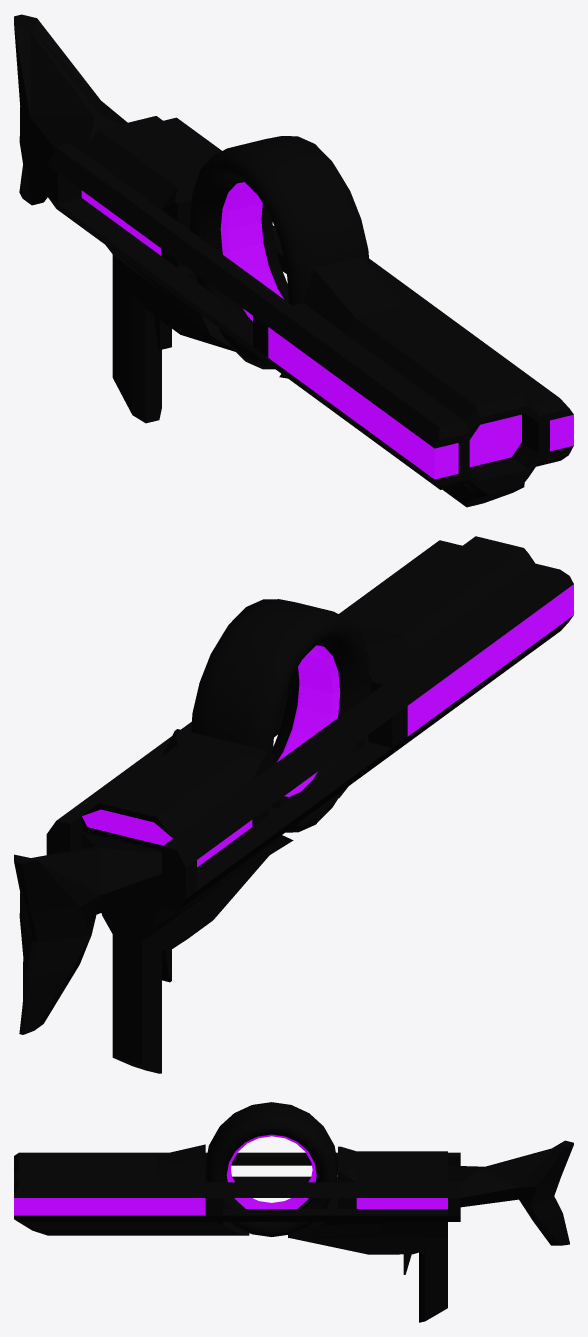
The model's file is Gun001.fbx.
3 renders of one model, top to bottom at view 1: azimuth 30°, elevation 25°; view 2: azimuth 150°, elevation 25°; view 3: azimuth 270°, elevation 25°, orthographic. The views are drawn at different scales.
Visible parts, largest first — view 1: Gun, Chamber, Glow; view 2: Gun, Chamber, Glow; view 3: Gun, Chamber, Glow.
Boxes of the visible parts, x1=… form: Gun: x1=14, y1=14, x2=573, y2=507; Chamber: x1=189, y1=136, x2=369, y2=369; Glow: x1=81, y1=190, x2=573, y2=479; Gun: x1=14, y1=536, x2=573, y2=1073; Chamber: x1=191, y1=599, x2=371, y2=832; Glow: x1=82, y1=584, x2=573, y2=867; Gun: x1=14, y1=1140, x2=573, y2=1322; Chamber: x1=205, y1=1102, x2=337, y2=1236; Glow: x1=14, y1=1198, x2=447, y2=1215.
Size of the model in its own units: 22.41 by 56.4 by 136.
